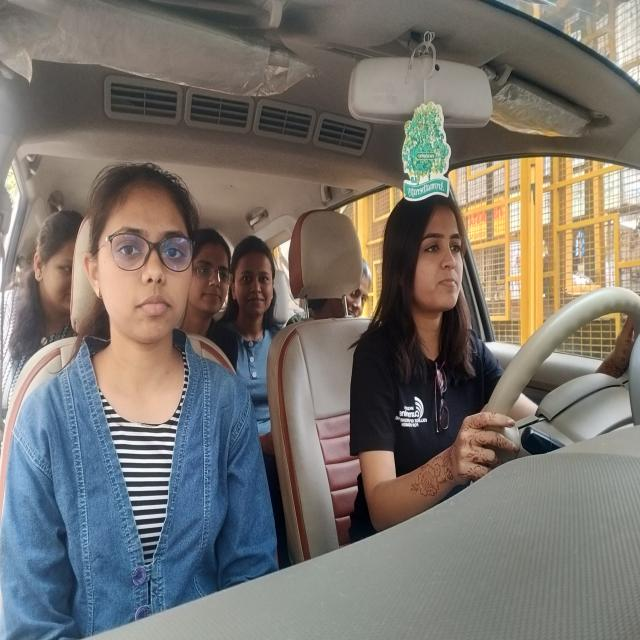person: (86, 158, 194, 352), (384, 190, 468, 346), (30, 210, 85, 334), (235, 234, 278, 328), (191, 221, 230, 324), (346, 254, 373, 316)
